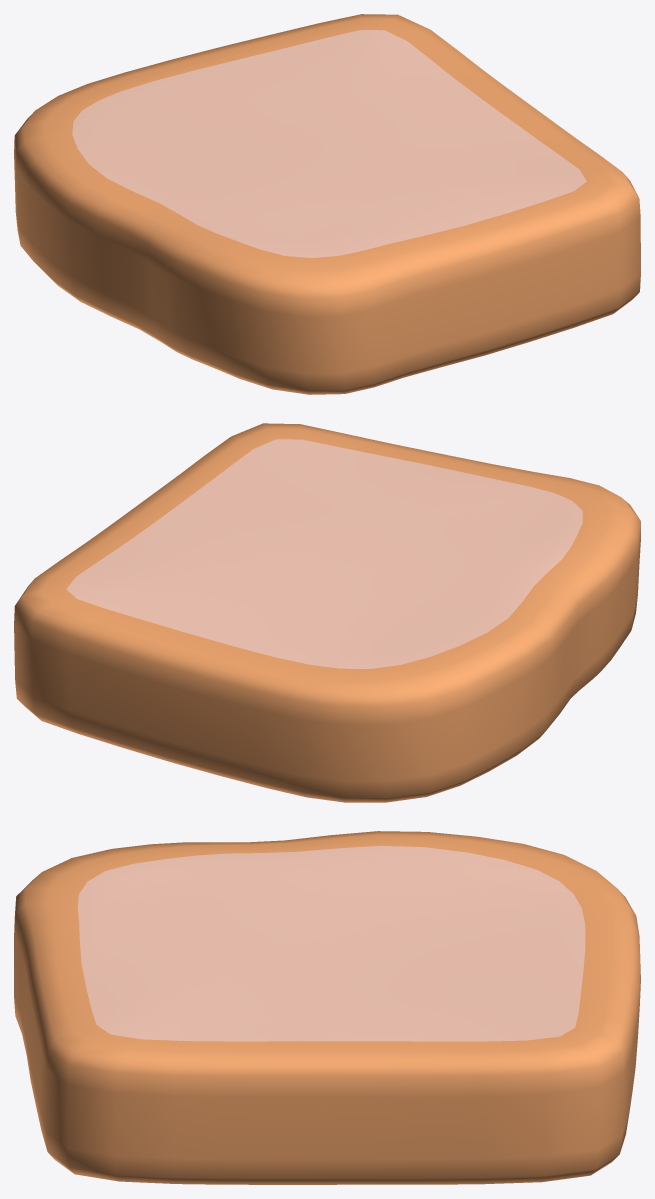
File: Loaf_03.fbx
The picture shows the model from 3 angles, top to bottom: view 1: azimuth 30°, elevation 25°; view 2: azimuth 150°, elevation 25°; view 3: azimuth 270°, elevation 25°; orthographic projection. The views are drawn at different scales.
Parts seen in each view (by area): view 1: Loaf_03_LOD0; view 2: Loaf_03_LOD0; view 3: Loaf_03_LOD0.
Part boxes in pixels (left/top/right/bottom): Loaf_03_LOD0: left=14, top=14, right=640, bottom=394; Loaf_03_LOD0: left=14, top=423, right=640, bottom=802; Loaf_03_LOD0: left=14, top=831, right=640, bottom=1184.
Size of what is drawn, in the model's own units: 452 by 123 by 503.
